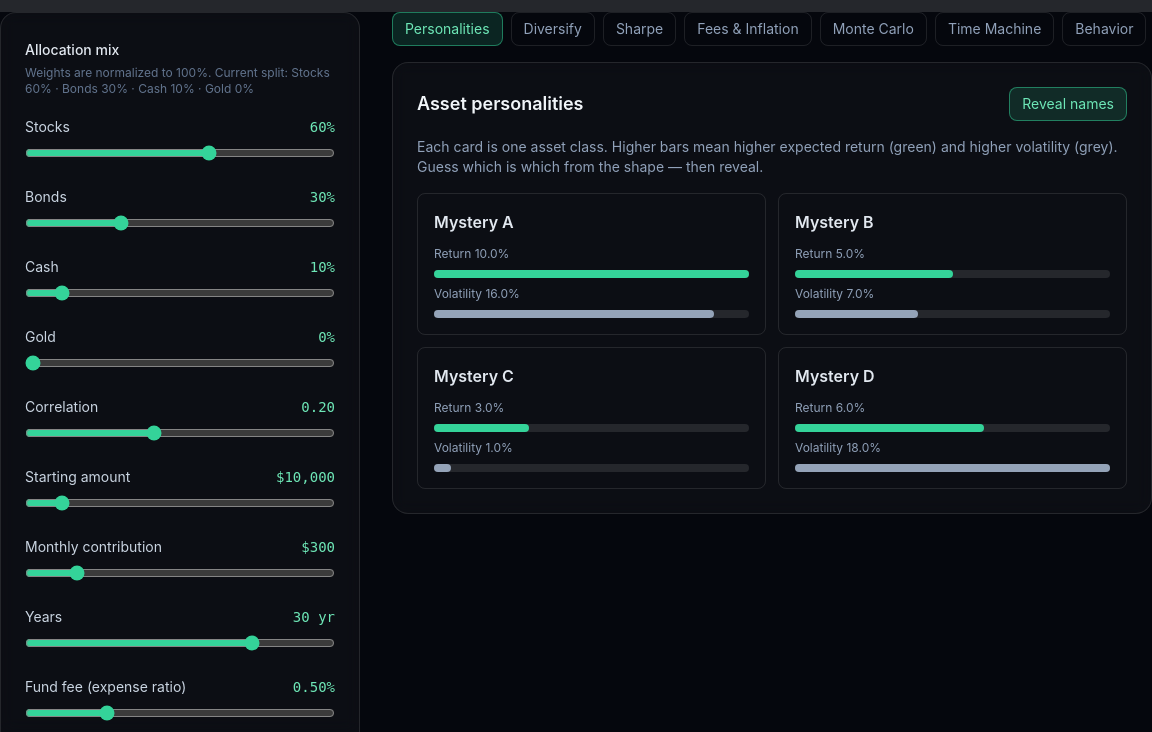
Test: PortfolioSandbox — behavior lens › compares DCA against a lump sum
The width and height of the screenshot is (1152, 732).
Step 1. Click the tab "Behavior" → click(1104, 29), box [1062,12,1146,46]
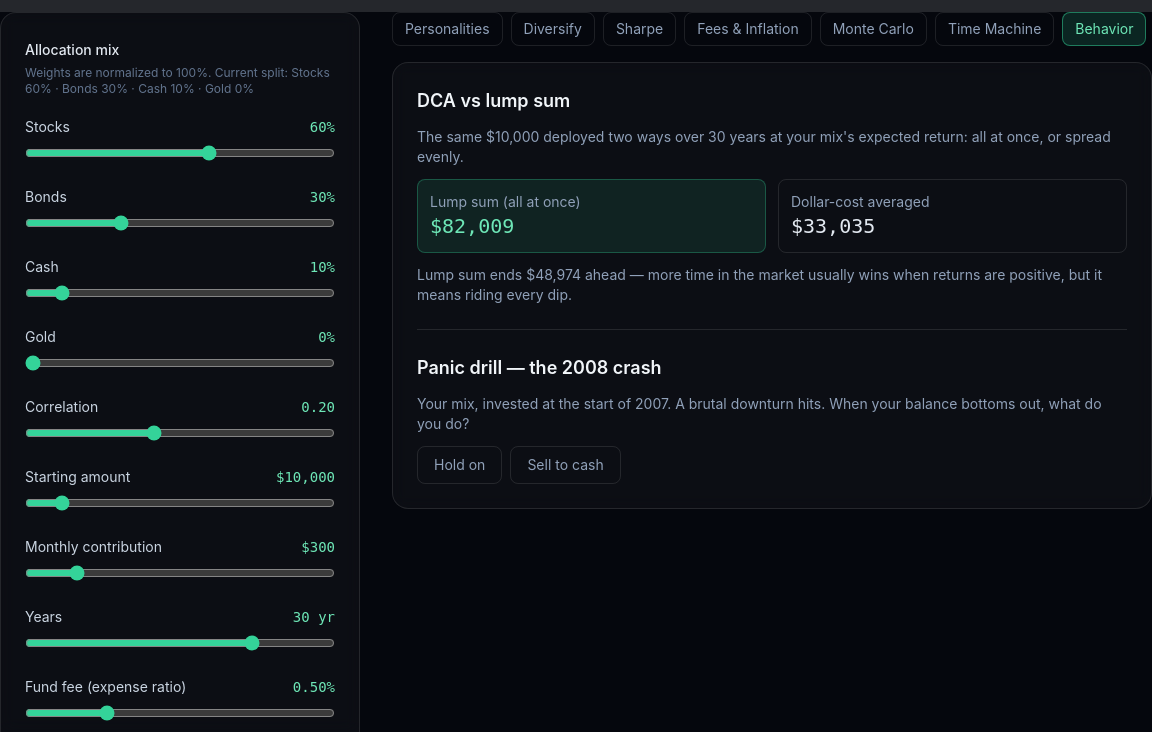
Expected: the text "Lump sum (all at once)" is shown, [430,193,581,210]
Expected: the text "Dollar-cost averaged" is shown, [791,193,930,210]
